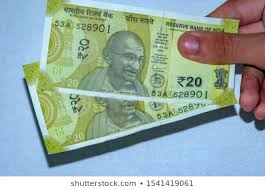twenty: (56, 16, 211, 92)
